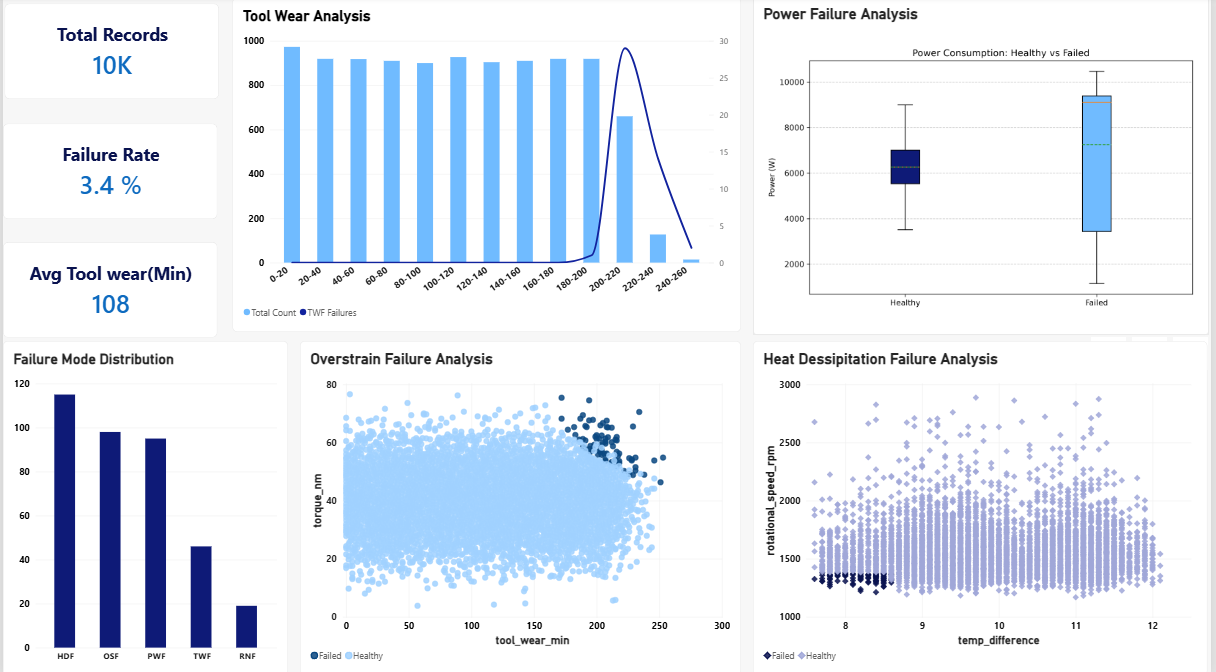

This screenshot's page, from the dashboard's own definition file:
{"tool":"powerbi","page":{"name":"Page 1","canvas":[1920,1080],"ordinal":0},"visuals":[{"type":"clusteredColumnChart","title":"Failure Mode Distribution","fields":{"Category":["public failure_by_mode.failure_mode"],"Y":["Sum(public failure_by_mode.total_failure)"]},"box":[0,548.8,453.3,532.1],"z":0},{"type":"lineClusteredColumnComboChart","title":"Tool Wear Analysis","fields":{"Category":["public tool_wear_distribution.tool_bin_range"],"Y":["Sum(public tool_wear_distribution.total_count)"],"Y2":["Sum(public tool_wear_distribution.twf_failures)"]},"box":[365,2.4,808.8,532.1],"z":1},{"type":"pythonVisual","title":"Power Failure Analysis","fields":{"Values":["public power_by_failure_status.case","public power_by_failure_status.power_w"]},"box":[1193,0,725.3,539.2],"z":3},{"type":"scatterChart","title":"Heat Dissipation Failure Analysis","fields":{"Series":["public temp_diff_vs_rpm.status"],"X":["public temp_diff_vs_rpm.temp_difference"],"Y":["public temp_diff_vs_rpm.rotational_speed_rpm"]},"box":[1193,548.8,722.9,532.1],"z":5},{"type":"scatterChart","title":"Overstrain Failure Analysis","fields":{"Series":["public torque_vs_tool_wear.status"],"X":["Sum(public torque_vs_tool_wear.tool_wear_min)1"],"Y":["public torque_vs_tool_wear.torque_nm"]},"box":[472.4,548.8,701.5,532.1],"z":8},{"type":"cardVisual","fields":{"Data":["Sum(public overall_failure_rate.avg_failure_rate)"]},"box":[0,202.8,341.2,152.7],"z":9},{"type":"cardVisual","fields":{"Data":["Sum(public total_machines.total_records)"]},"box":[2.4,11.9,341.2,152.7],"z":11},{"type":"cardVisual","fields":{"Data":["Sum(public avg_tool_wear.avg_tool_wear)"]},"box":[0,391.3,341.2,152.7],"z":12}]}

Visuals, with their boxes in screenshot pixels (x1, y1, x2, y2), scaled from the page's 1920x1080 canvas onto the 1216x672 screenshot:
"Failure Mode Distribution" clusteredColumnChart: [left=0, top=341, right=287, bottom=671]
"Tool Wear Analysis" lineClusteredColumnComboChart: [left=231, top=1, right=743, bottom=333]
"Power Failure Analysis" pythonVisual: [left=756, top=0, right=1215, bottom=336]
"Heat Dissipation Failure Analysis" scatterChart: [left=756, top=341, right=1213, bottom=671]
"Overstrain Failure Analysis" scatterChart: [left=299, top=341, right=743, bottom=671]
cardVisual - Sum(public overall_failure_rate.avg_failure_rate): [left=0, top=126, right=216, bottom=221]
cardVisual - Sum(public total_machines.total_records): [left=2, top=7, right=218, bottom=102]
cardVisual - Sum(public avg_tool_wear.avg_tool_wear): [left=0, top=243, right=216, bottom=338]
